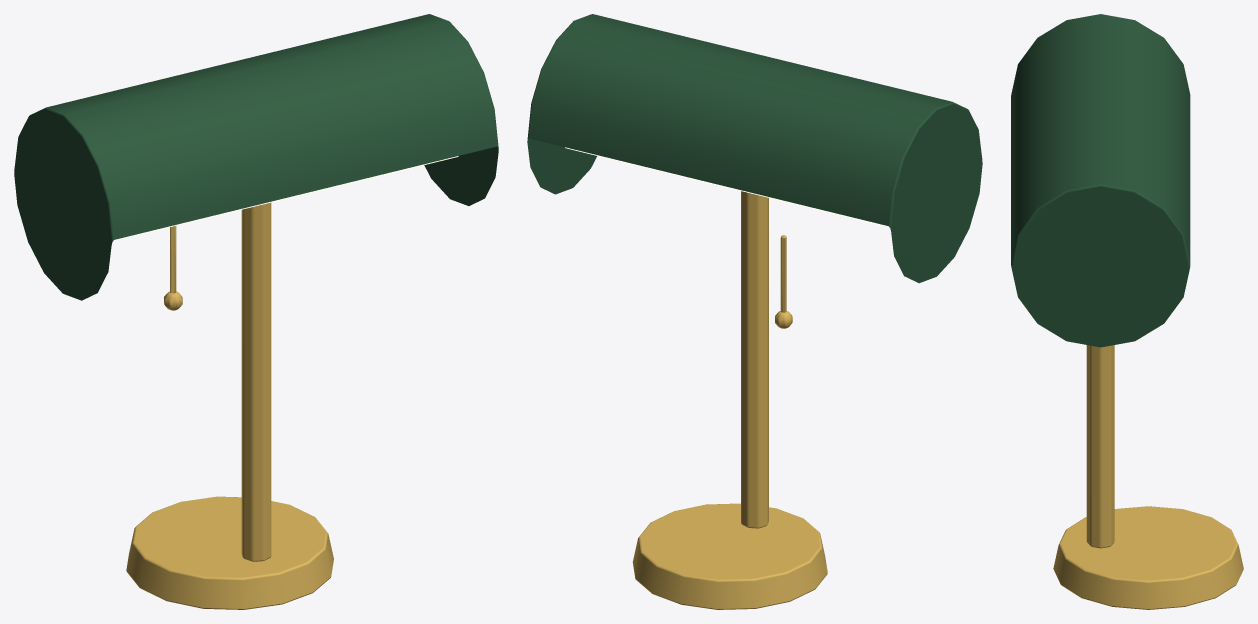
The model's file is SM_PRP_LuminariaVerde.fbx.
The picture shows the model from 3 angles, left to right: view 1: azimuth 30°, elevation 25°; view 2: azimuth 150°, elevation 25°; view 3: azimuth 270°, elevation 25°; orthographic projection. The views are drawn at different scales.
Visible parts, largest first — view 1: SM_PRP_LuminariaVerde; view 2: SM_PRP_LuminariaVerde; view 3: SM_PRP_LuminariaVerde.
Boxes of the visible parts, x1,y1,x2,y2 form: SM_PRP_LuminariaVerde: (14, 14, 498, 609); SM_PRP_LuminariaVerde: (527, 14, 982, 609); SM_PRP_LuminariaVerde: (1011, 14, 1243, 609).
Bounding box in the file's own units: 0.34 × 0.435 × 0.1947.
